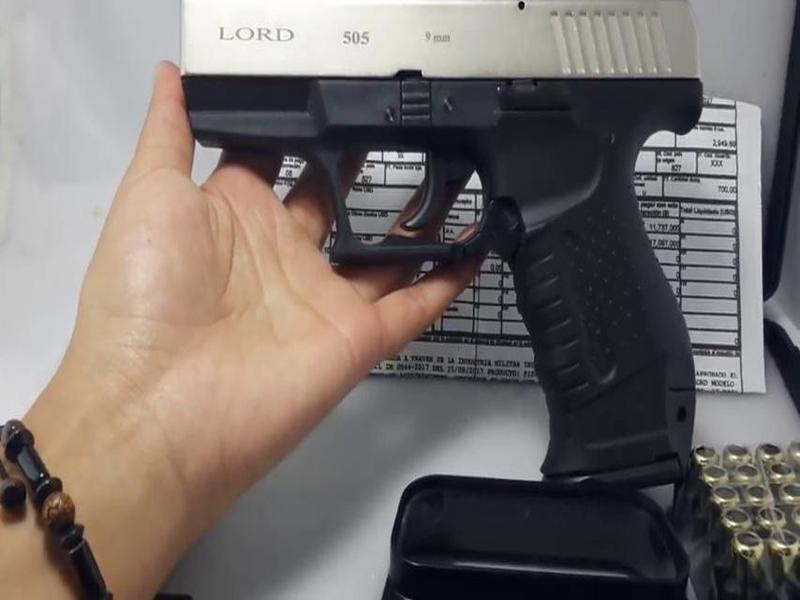Pistola: (171, 1, 710, 498)
